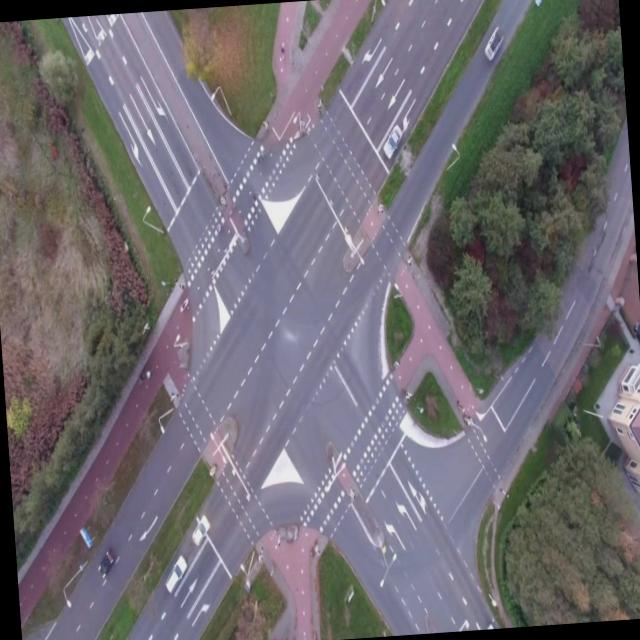car: (162, 551, 190, 595), (378, 120, 406, 160), (188, 512, 212, 544)
